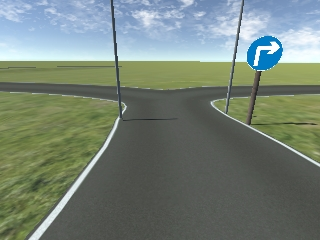right: (246, 35, 283, 71)
